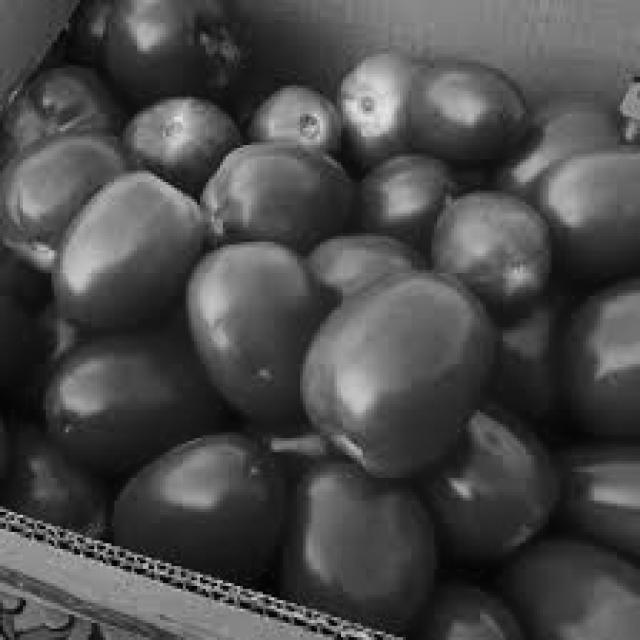Fresh_tomato: (357, 251, 472, 481), (468, 432, 640, 579), (194, 242, 323, 427), (212, 136, 349, 241), (0, 117, 106, 239), (410, 49, 530, 150), (534, 158, 640, 268), (456, 195, 547, 308)
